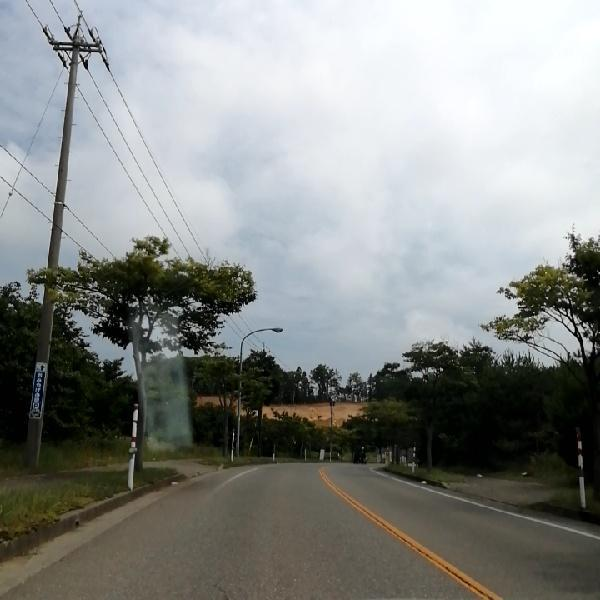D00: (206, 578, 247, 598)
